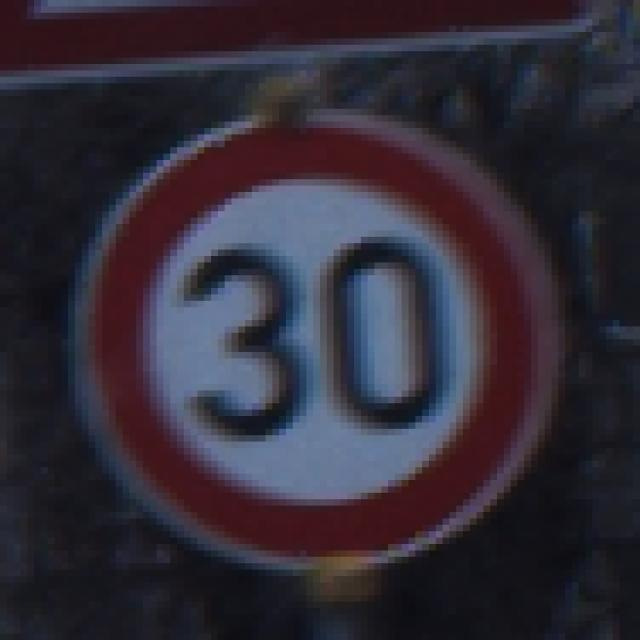Speed Limit -30-: (51, 54, 582, 586)
